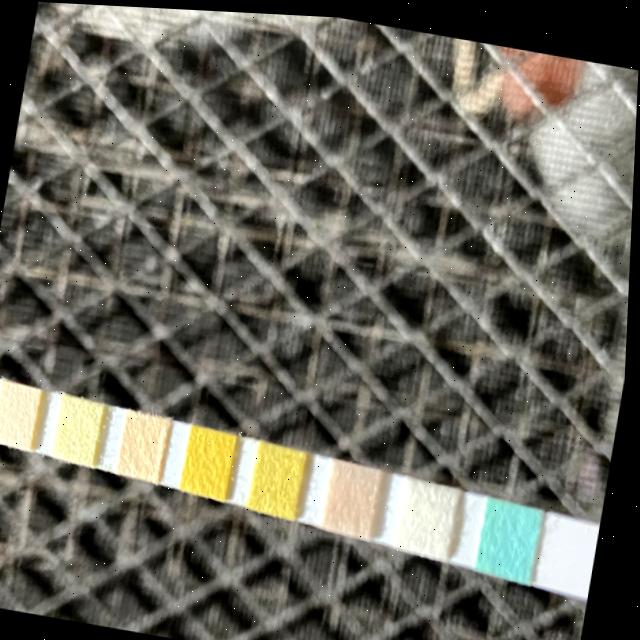Bilirubin: (400, 476, 460, 553)
Blood: (186, 423, 239, 492)
Glucose: (479, 494, 547, 572)
Ketone: (325, 454, 384, 530)
Protein: (57, 396, 105, 460)
SpGravity: (253, 442, 307, 511)
Urobilinogen: (0, 380, 43, 444)
pH: (122, 413, 171, 479)
